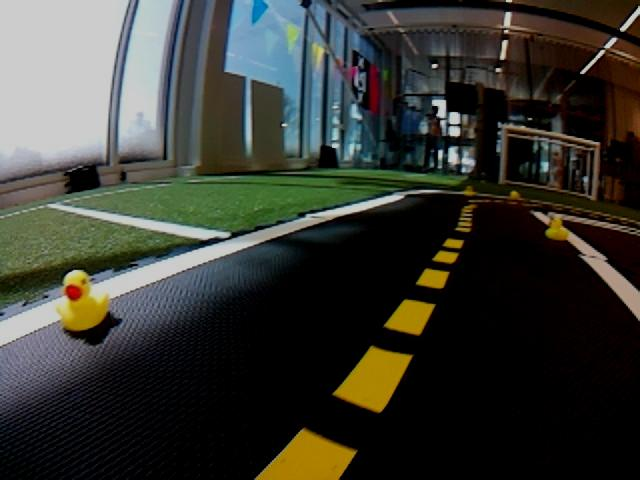Duckies: (55, 270, 113, 332), (545, 218, 570, 240), (509, 189, 520, 200), (464, 187, 476, 196)
